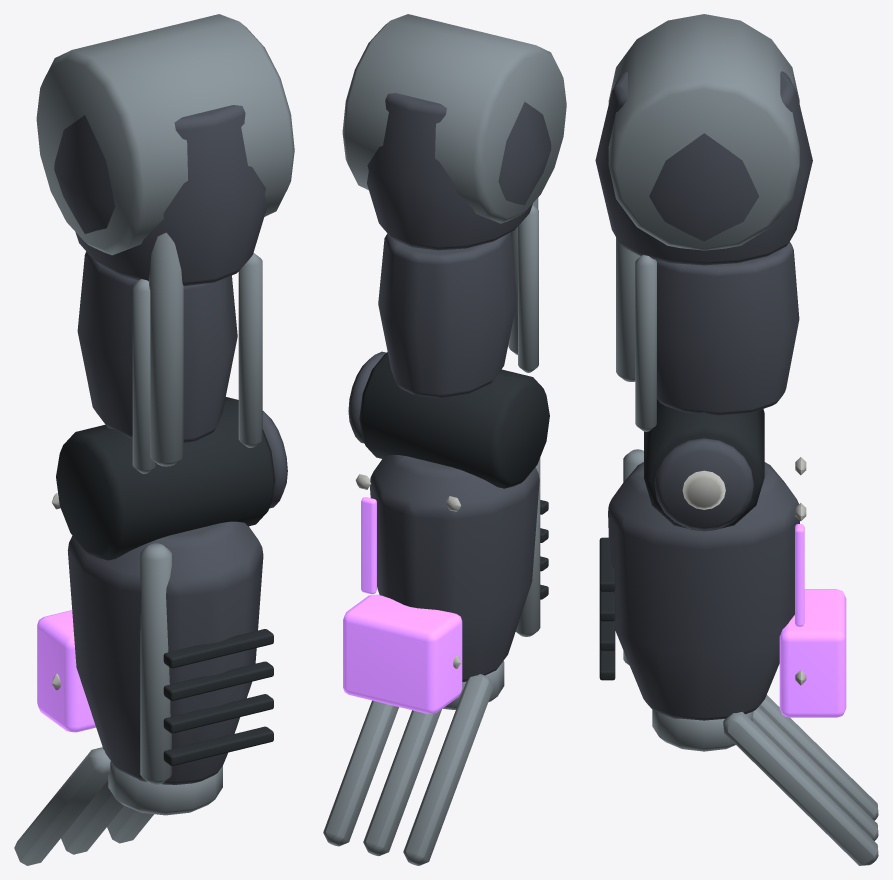
Rendered from arms_07.glb.
3 renders of one model, left to right at view 1: azimuth 30°, elevation 25°; view 2: azimuth 150°, elevation 25°; view 3: azimuth 270°, elevation 25°, orthographic. The views are drawn at different scales.
Visible parts, largest first — view 1: UpperArm.006_Geometry, Forearm.006_Geometry, Shoulder bearing.006; view 2: Forearm.006_Geometry, UpperArm.006_Geometry, Shoulder bearing.006; view 3: Forearm.006_Geometry, UpperArm.006_Geometry, Shoulder bearing.006.
Part boxes in pixels (x1,y1,x2,y2): UpperArm.006_Geometry: (54,105,275,560); Forearm.006_Geometry: (14,411,287,865); Shoulder bearing.006: (36,14,294,255); Forearm.006_Geometry: (323,351,548,865); UpperArm.006_Geometry: (359,93,551,488); Shoulder bearing.006: (342,14,566,223); Forearm.006_Geometry: (599,438,878,865); UpperArm.006_Geometry: (595,71,812,531); Shoulder bearing.006: (608,14,799,250).
Bounding box in the file's own units: 0.1757 × 0.7279 × 0.2343.
